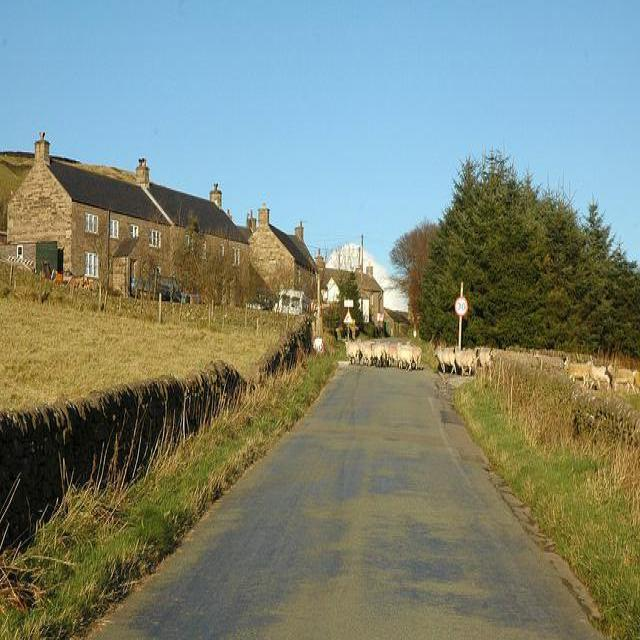Sheep: (584, 356, 639, 412)
